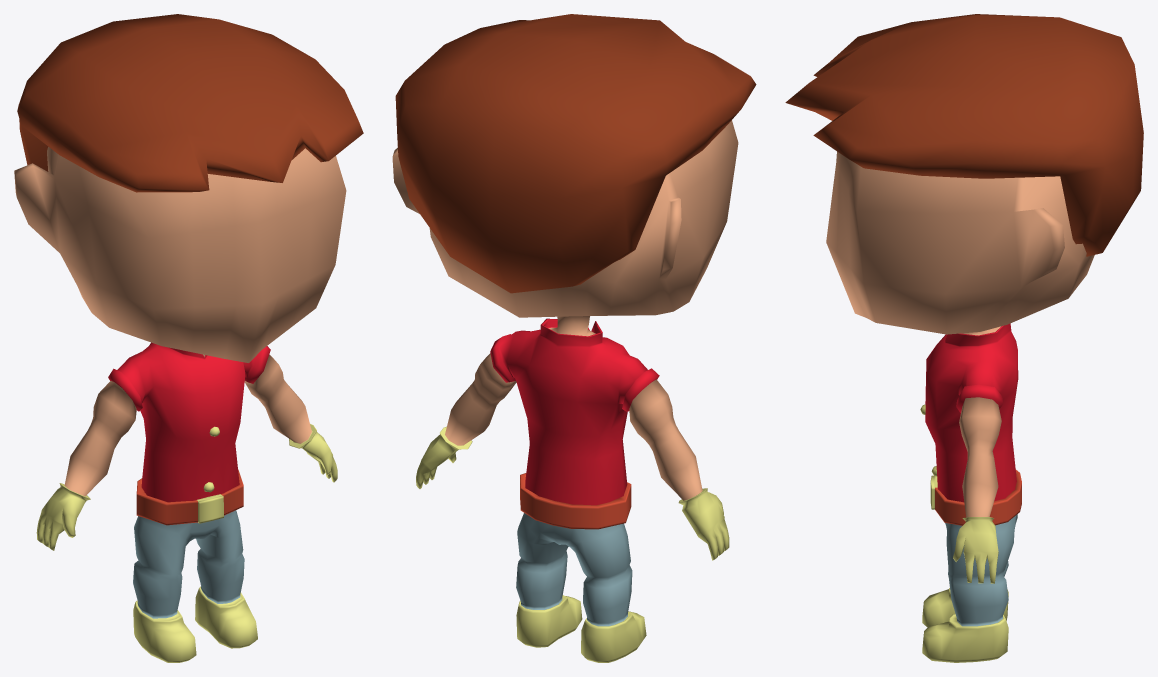
Rendered from Brock_Choi_blockout v7.fbx.
3 views of the same model, side by side, from view 1: azimuth 30°, elevation 25°; view 2: azimuth 150°, elevation 25°; view 3: azimuth 270°, elevation 25° (orthographic). The views are drawn at different scales.
Visible parts, largest first — view 1: Brock.Choi.001; view 2: Brock.Choi.001; view 3: Brock.Choi.001.
Part boxes in pixels (bbox=[...]): Brock.Choi.001: bbox=[14, 14, 363, 662]; Brock.Choi.001: bbox=[392, 14, 756, 662]; Brock.Choi.001: bbox=[785, 14, 1143, 662].
Bounding box in the file's own units: 298 × 575 × 313.
